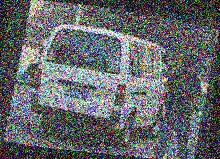van: (23, 17, 185, 157)
